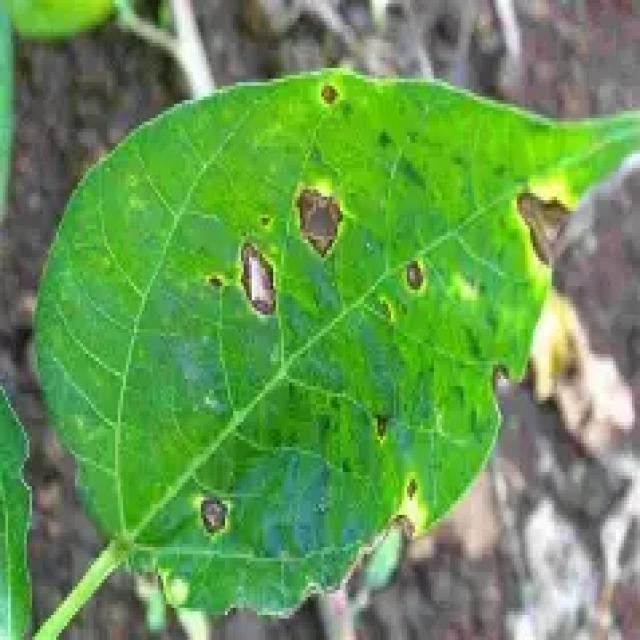leaf_spot: (35, 68, 637, 636)
